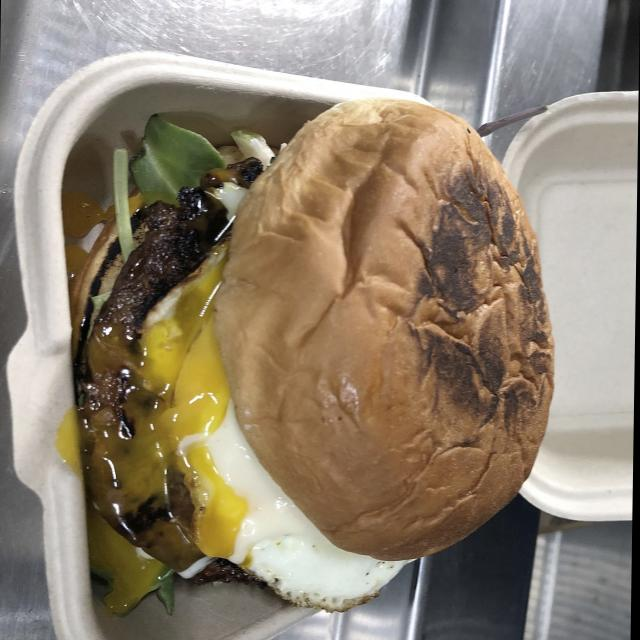burger: (65, 95, 559, 613)
